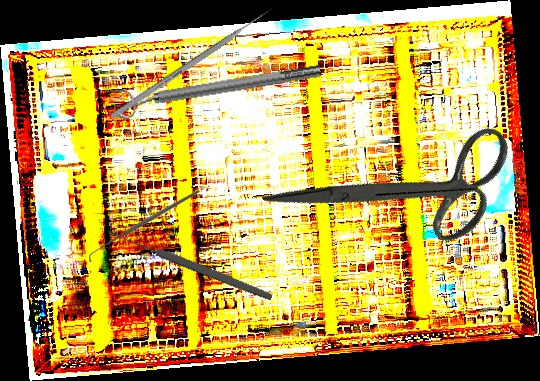Fixation Ring: (113, 56, 324, 121)
Hook Surgical: (89, 189, 200, 262)
Iris Scissors: (261, 56, 538, 321)
Pusher: (109, 5, 276, 120)
Surgical Spoon: (107, 226, 274, 303)
